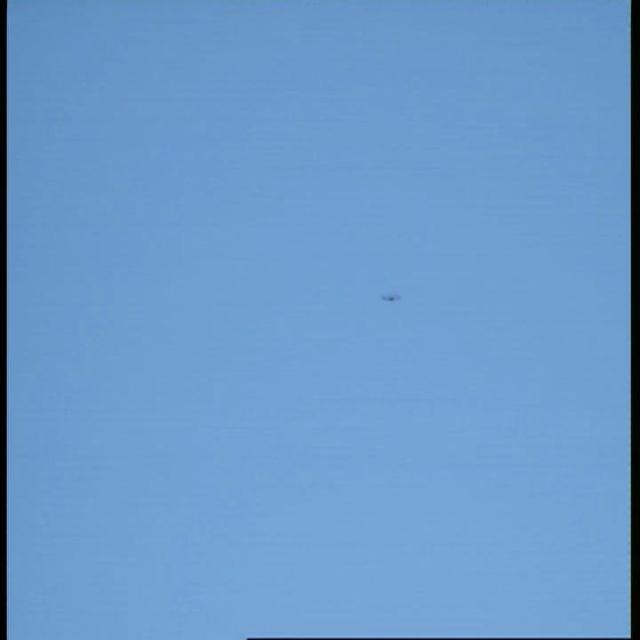drone: (378, 288, 402, 308)
